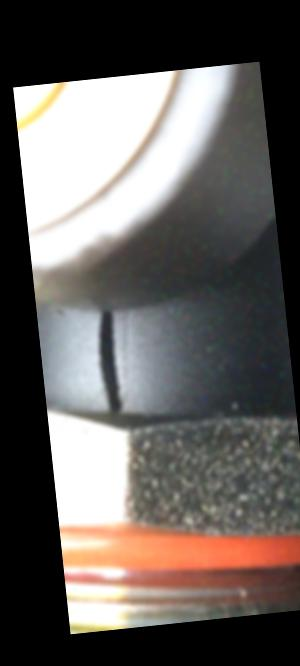craze: (93, 305, 125, 413)
joint line: (115, 310, 136, 387)
